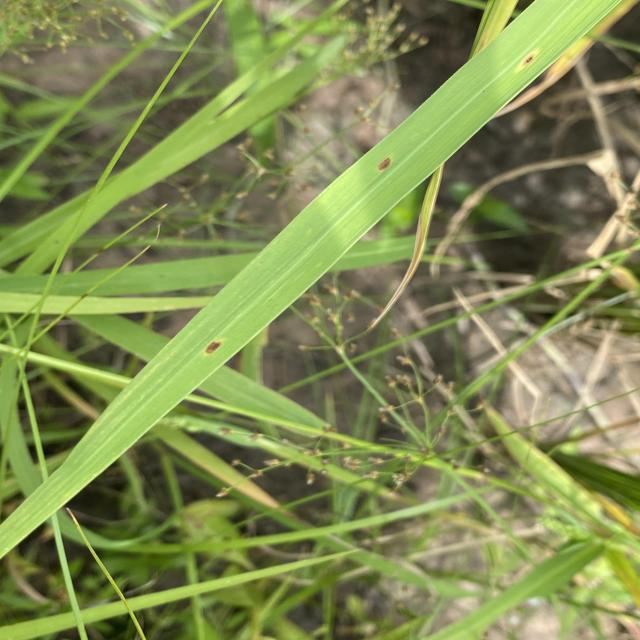Dom nau: (199, 337, 226, 357), (373, 155, 394, 174), (522, 54, 535, 66)
